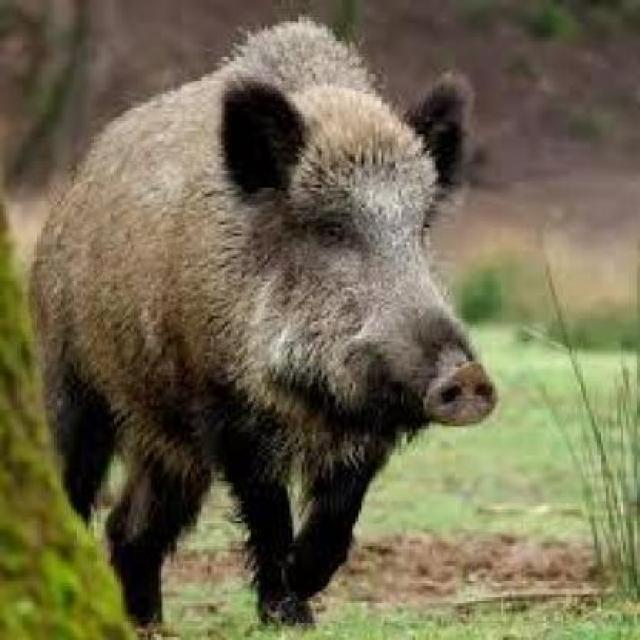wildboar: (30, 15, 499, 640)
